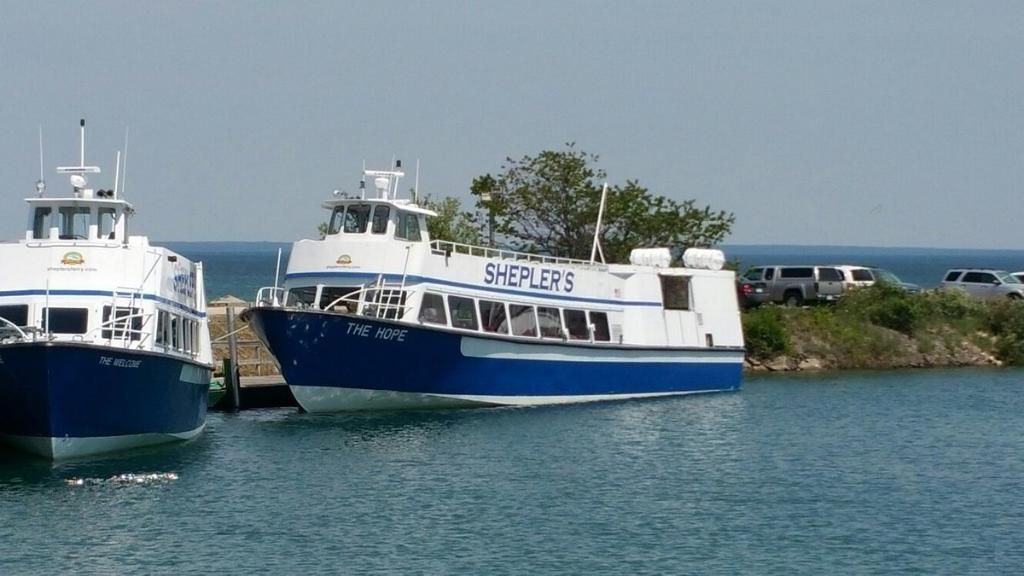PassengerShip: (239, 162, 753, 407), (0, 126, 220, 454)
